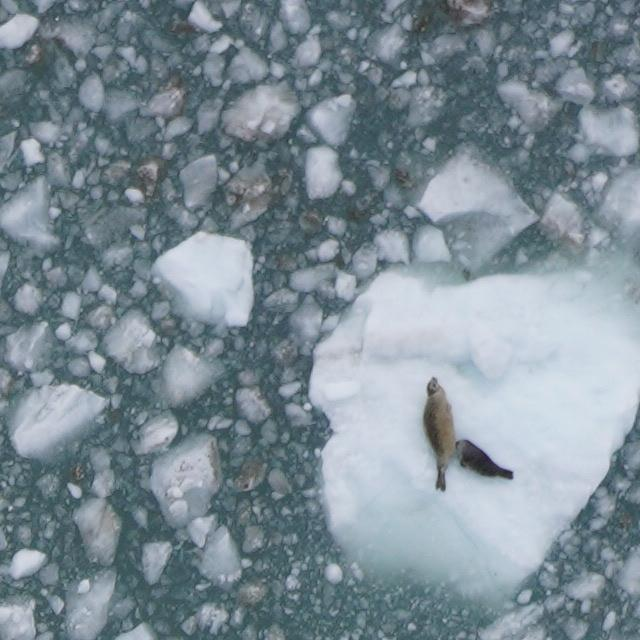seal: (419, 373, 458, 495), (452, 433, 520, 485)
